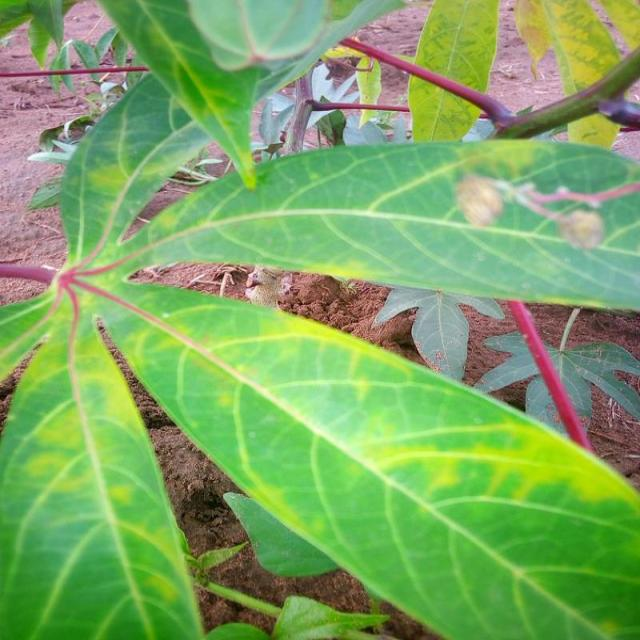cassava leaf: (1, 1, 638, 638), (91, 278, 638, 638), (117, 136, 638, 314)
